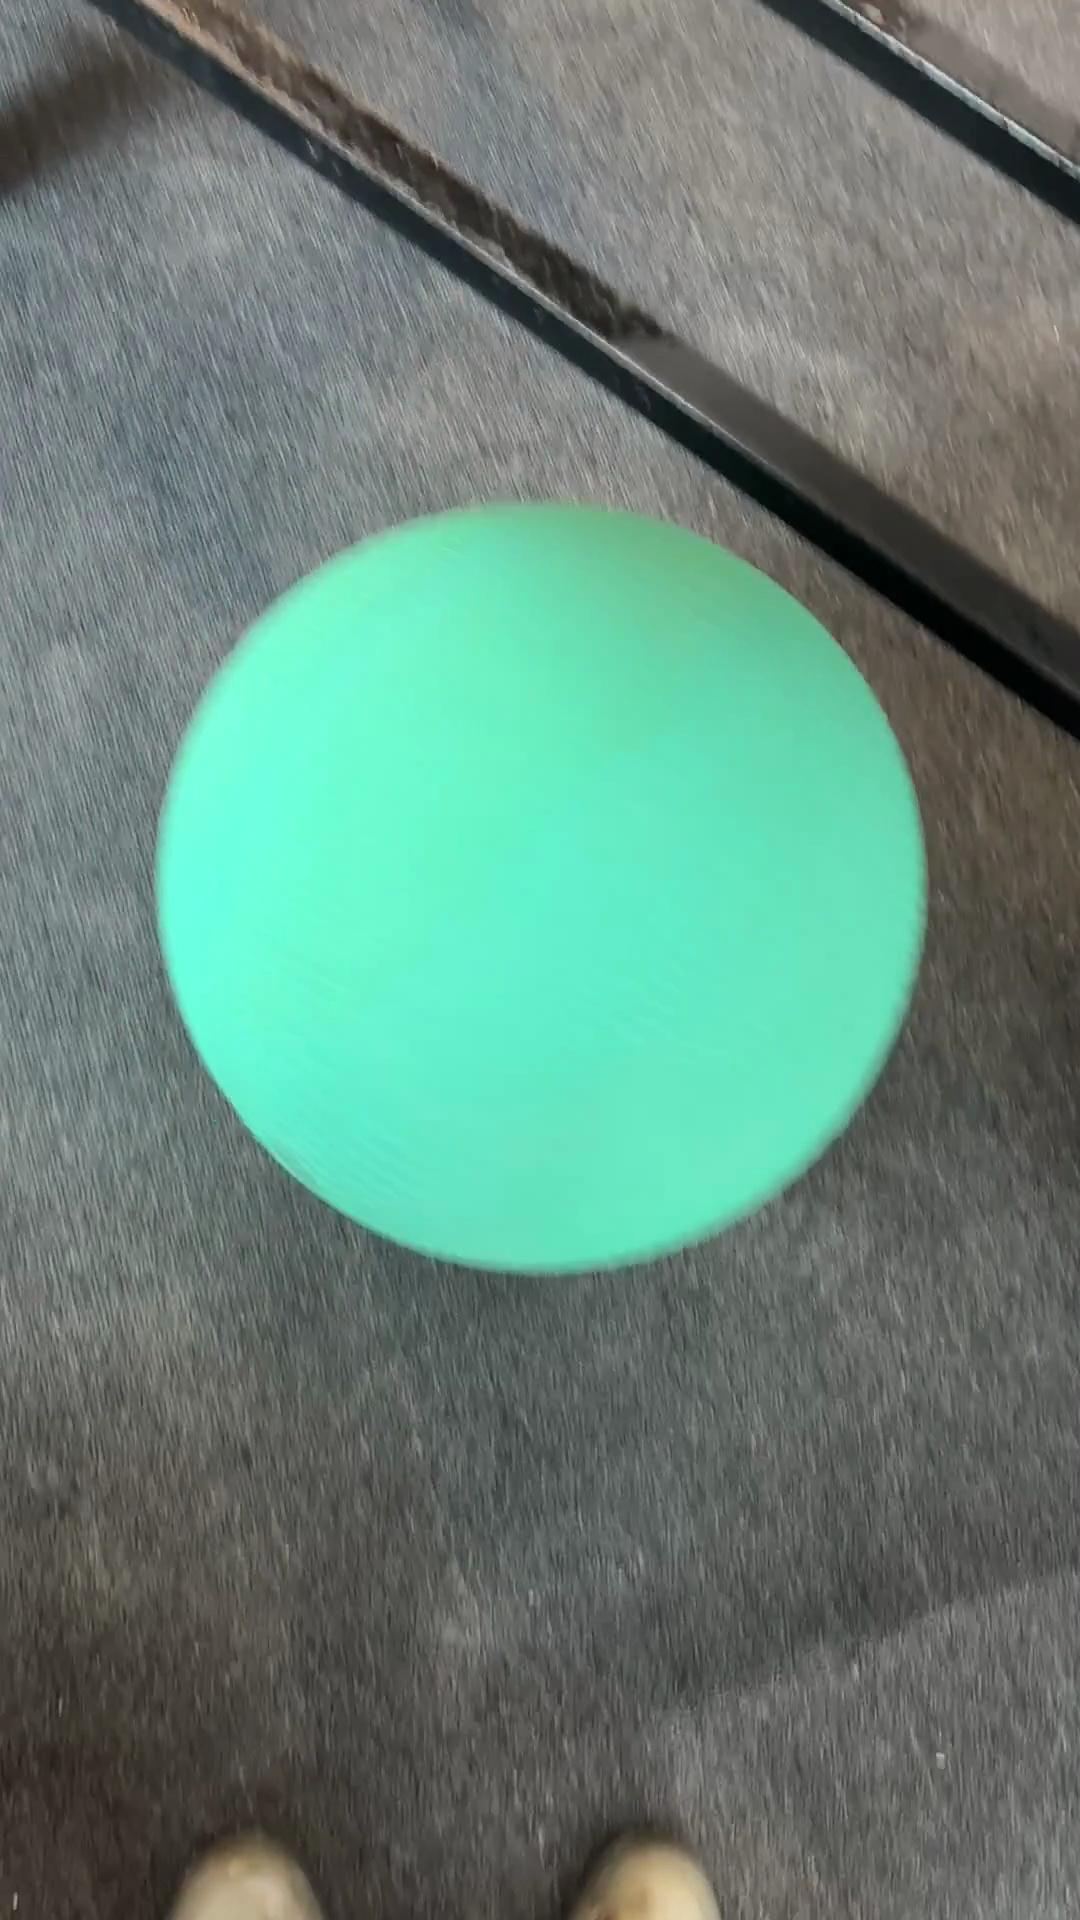ALGAE: (150, 499, 931, 1278)
